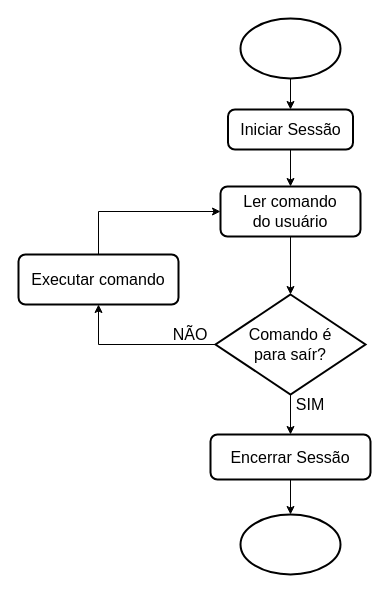
Some shapes in this 388 by 592 pixel diagram are drawn without their labels. Each missing label, with the box of its shape:
FIm: (239, 513, 341, 575)
Início: (239, 17, 341, 79)
